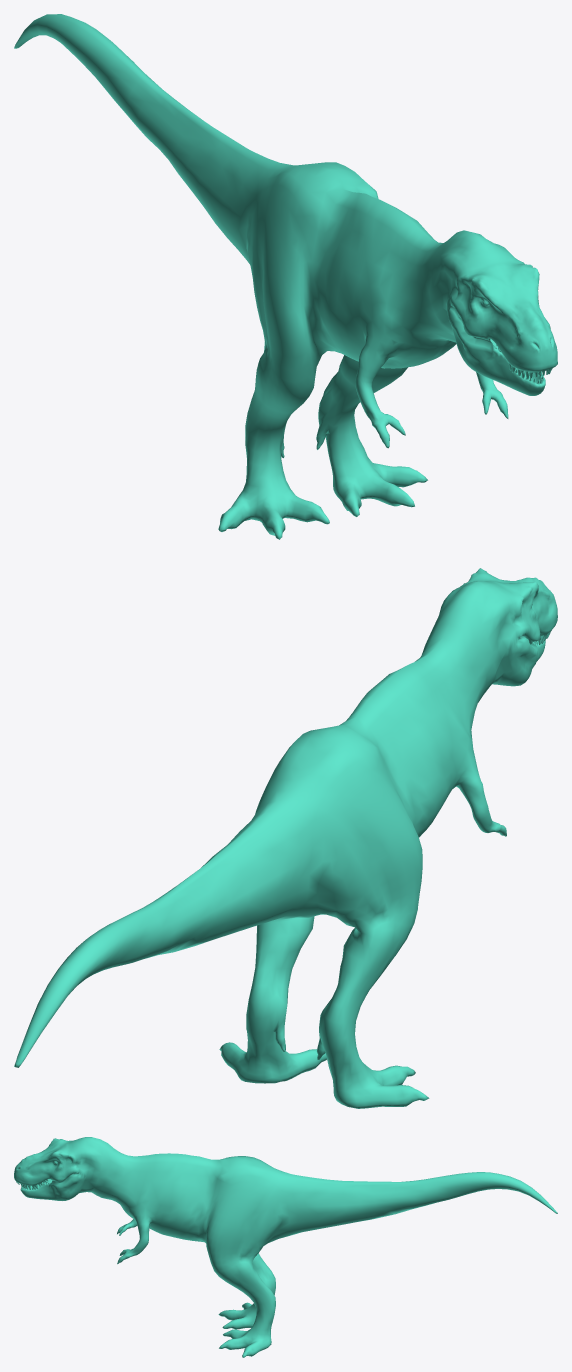
Rendered from TrexDetail0.obj.
3 renders of one model, top to bottom at view 1: azimuth 30°, elevation 25°; view 2: azimuth 150°, elevation 25°; view 3: azimuth 270°, elevation 25°, orthographic. The views are drawn at different scales.
Visible parts, largest first — view 1: TrexSkin; view 2: TrexSkin; view 3: TrexSkin.
Boxes of the visible parts, <box> form: TrexSkin: <box>14,14,557,539</box>; TrexSkin: <box>14,568,557,1108</box>; TrexSkin: <box>14,1137,557,1357</box>.
Size of the model in its own units: 262 by 463 by 1158.
